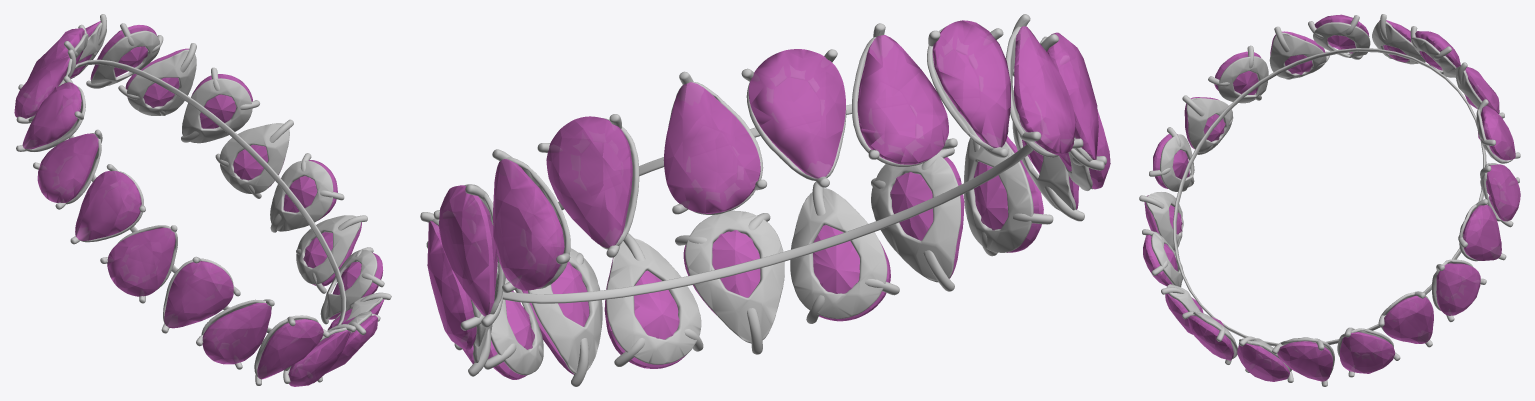
3 views of the same model, side by side, from view 1: azimuth 30°, elevation 25°; view 2: azimuth 150°, elevation 25°; view 3: azimuth 270°, elevation 25° (orthographic). The views are drawn at different scales.
Visible parts, largest first — view 1: Diamond.009_8, Diamond.007_7, BezierCircle.003_6; view 2: Diamond.007_7, Diamond.009_8, BezierCircle.003_6; view 3: Diamond.009_8, Diamond.007_7, BezierCircle.003_6.
Part boxes in pixels (left/top/right/bottom): Diamond.009_8: left=16, top=23, right=384, bottom=385; Diamond.007_7: left=14, top=14, right=391, bottom=386; BezierCircle.003_6: left=68, top=59, right=346, bottom=333; Diamond.007_7: left=420, top=14, right=1110, bottom=379; Diamond.009_8: left=426, top=20, right=1104, bottom=386; BezierCircle.003_6: left=503, top=91, right=1033, bottom=303; Diamond.009_8: left=1142, top=14, right=1520, bottom=386; Diamond.007_7: left=1139, top=14, right=1520, bottom=382; BezierCircle.003_6: left=1173, top=48, right=1486, bottom=346.
Bounding box in the file's own units: 13.31 × 11.26 × 13.96.
